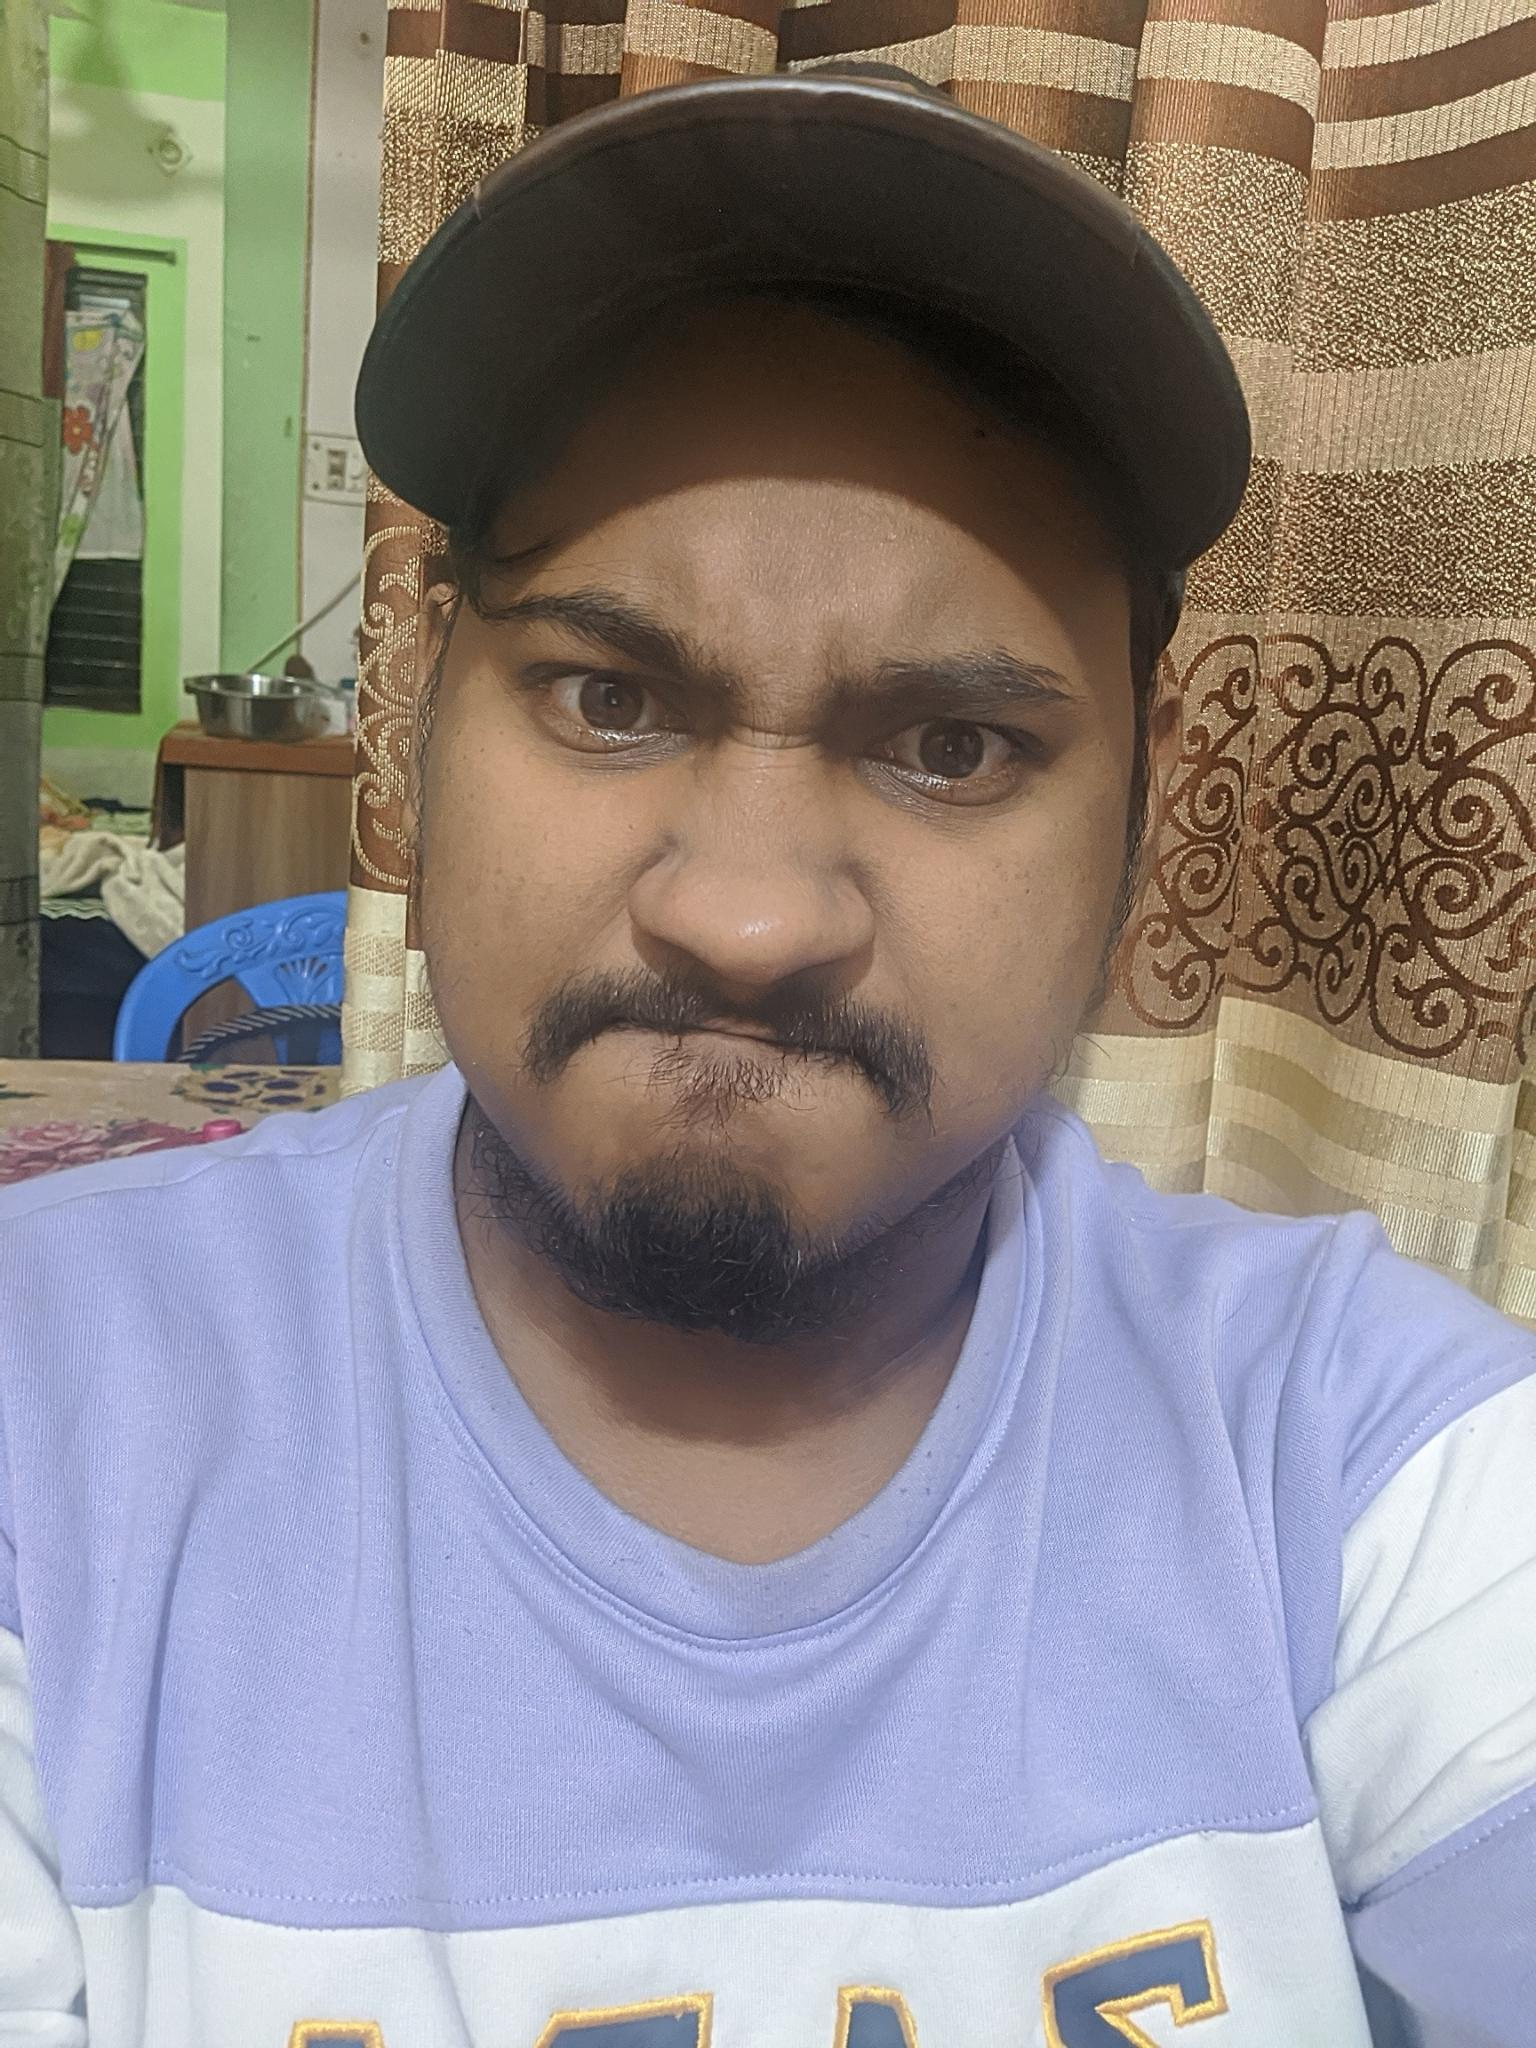Angry: (445, 482, 1120, 1240)
